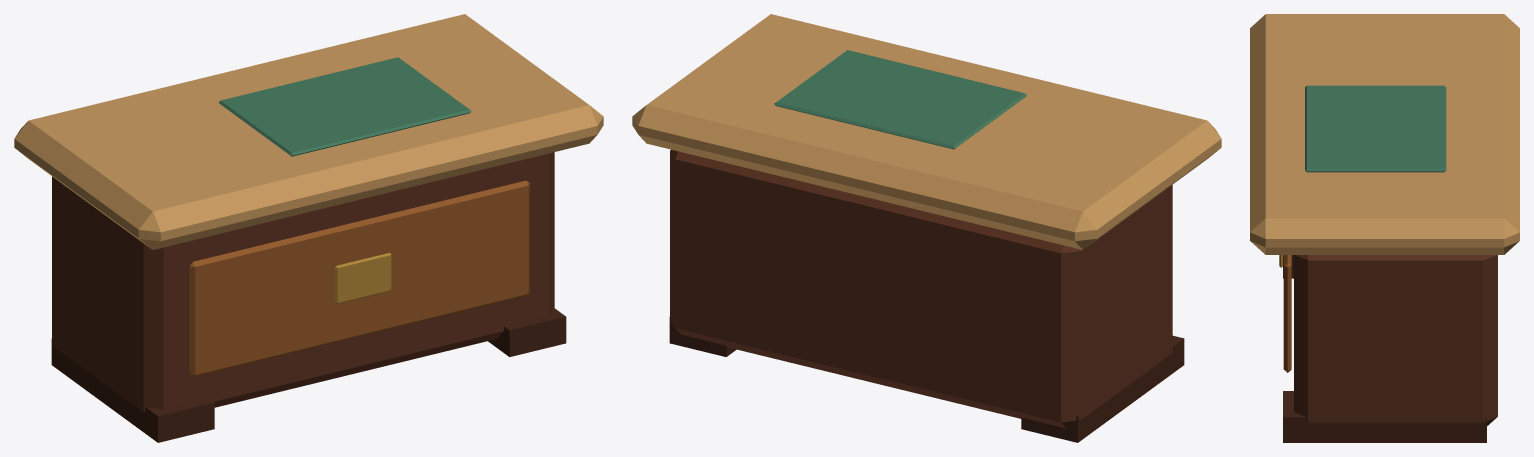
File: desk.glb
The picture shows the model from 3 angles, left to right: view 1: azimuth 30°, elevation 25°; view 2: azimuth 150°, elevation 25°; view 3: azimuth 270°, elevation 25°; orthographic projection. The views are drawn at different scales.
Parts seen in each view (by area): view 1: Body_mesh; view 2: Body_mesh; view 3: Body_mesh.
Part boxes in pixels (x1,y1,x2,y2): Body_mesh: [14, 14, 603, 442]; Body_mesh: [632, 14, 1221, 442]; Body_mesh: [1250, 14, 1519, 442].
Size of the model in its own units: 1.64 by 0.8265 by 0.86.
